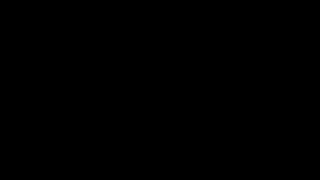turn_left: (215, 34, 242, 60)
